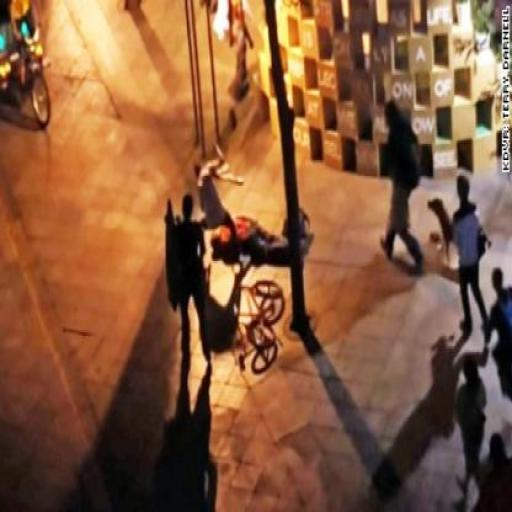Fighting: (164, 154, 314, 273)
